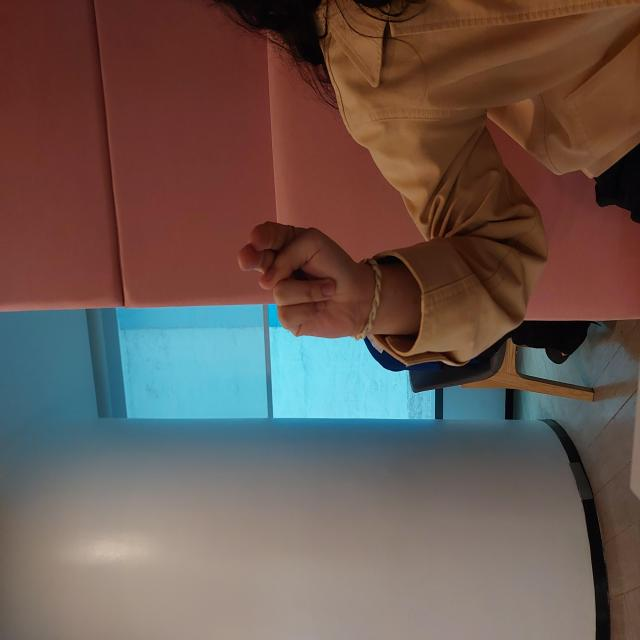N: (297, 234, 424, 375)
